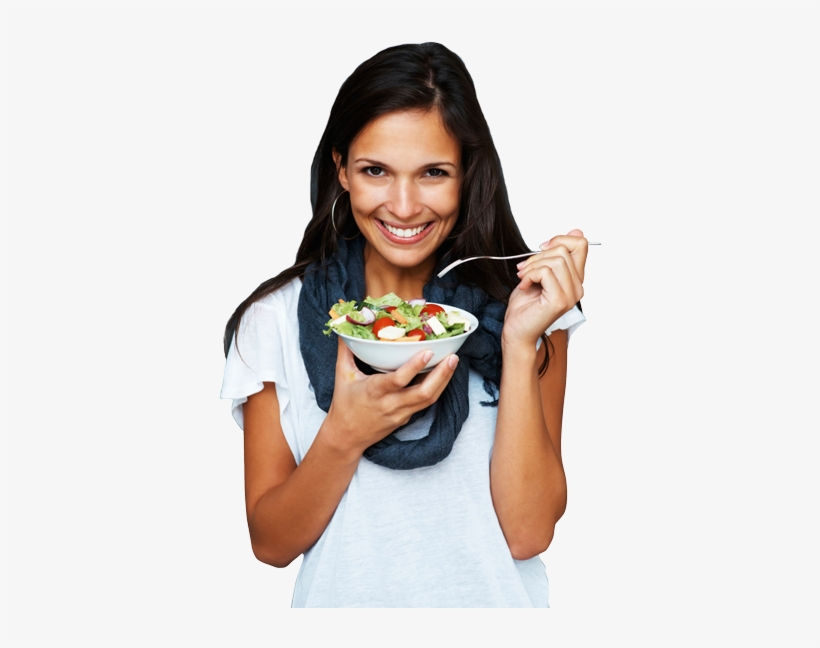eating: (253, 22, 623, 460)
